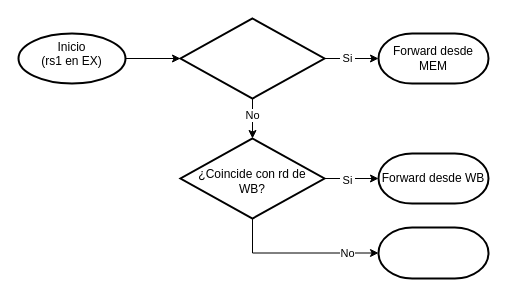
Image size: 506x296. Some labels were removed from this diagram. The shapes that lost their labels are listed below. From the top down, each one's centre as x and y in pixels, then its label:
(x=252, y=58): ¿Coincide con rd de MEM?
(x=433, y=252): No hay dependencia
